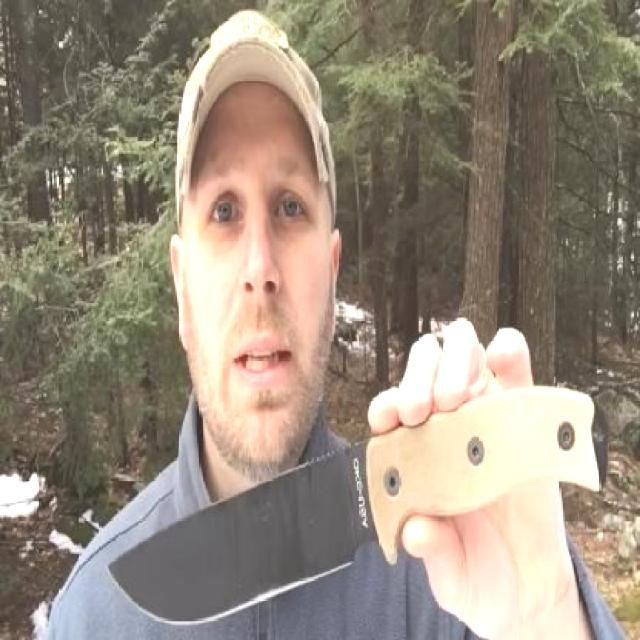knife: (104, 320, 442, 625)
